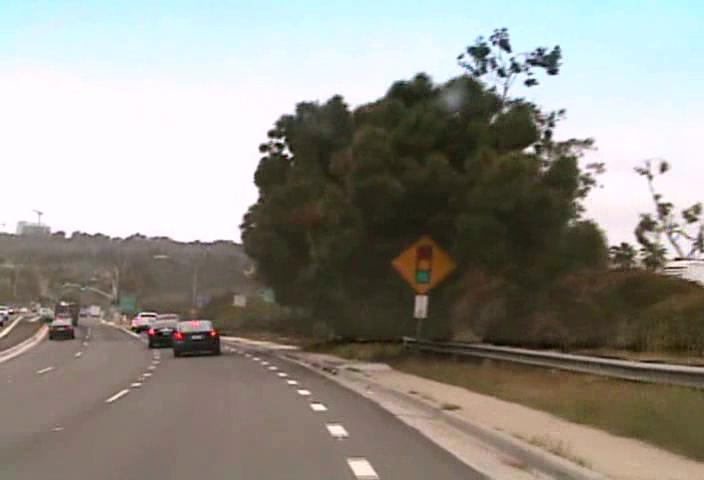signalAhead: (390, 233, 457, 294)
